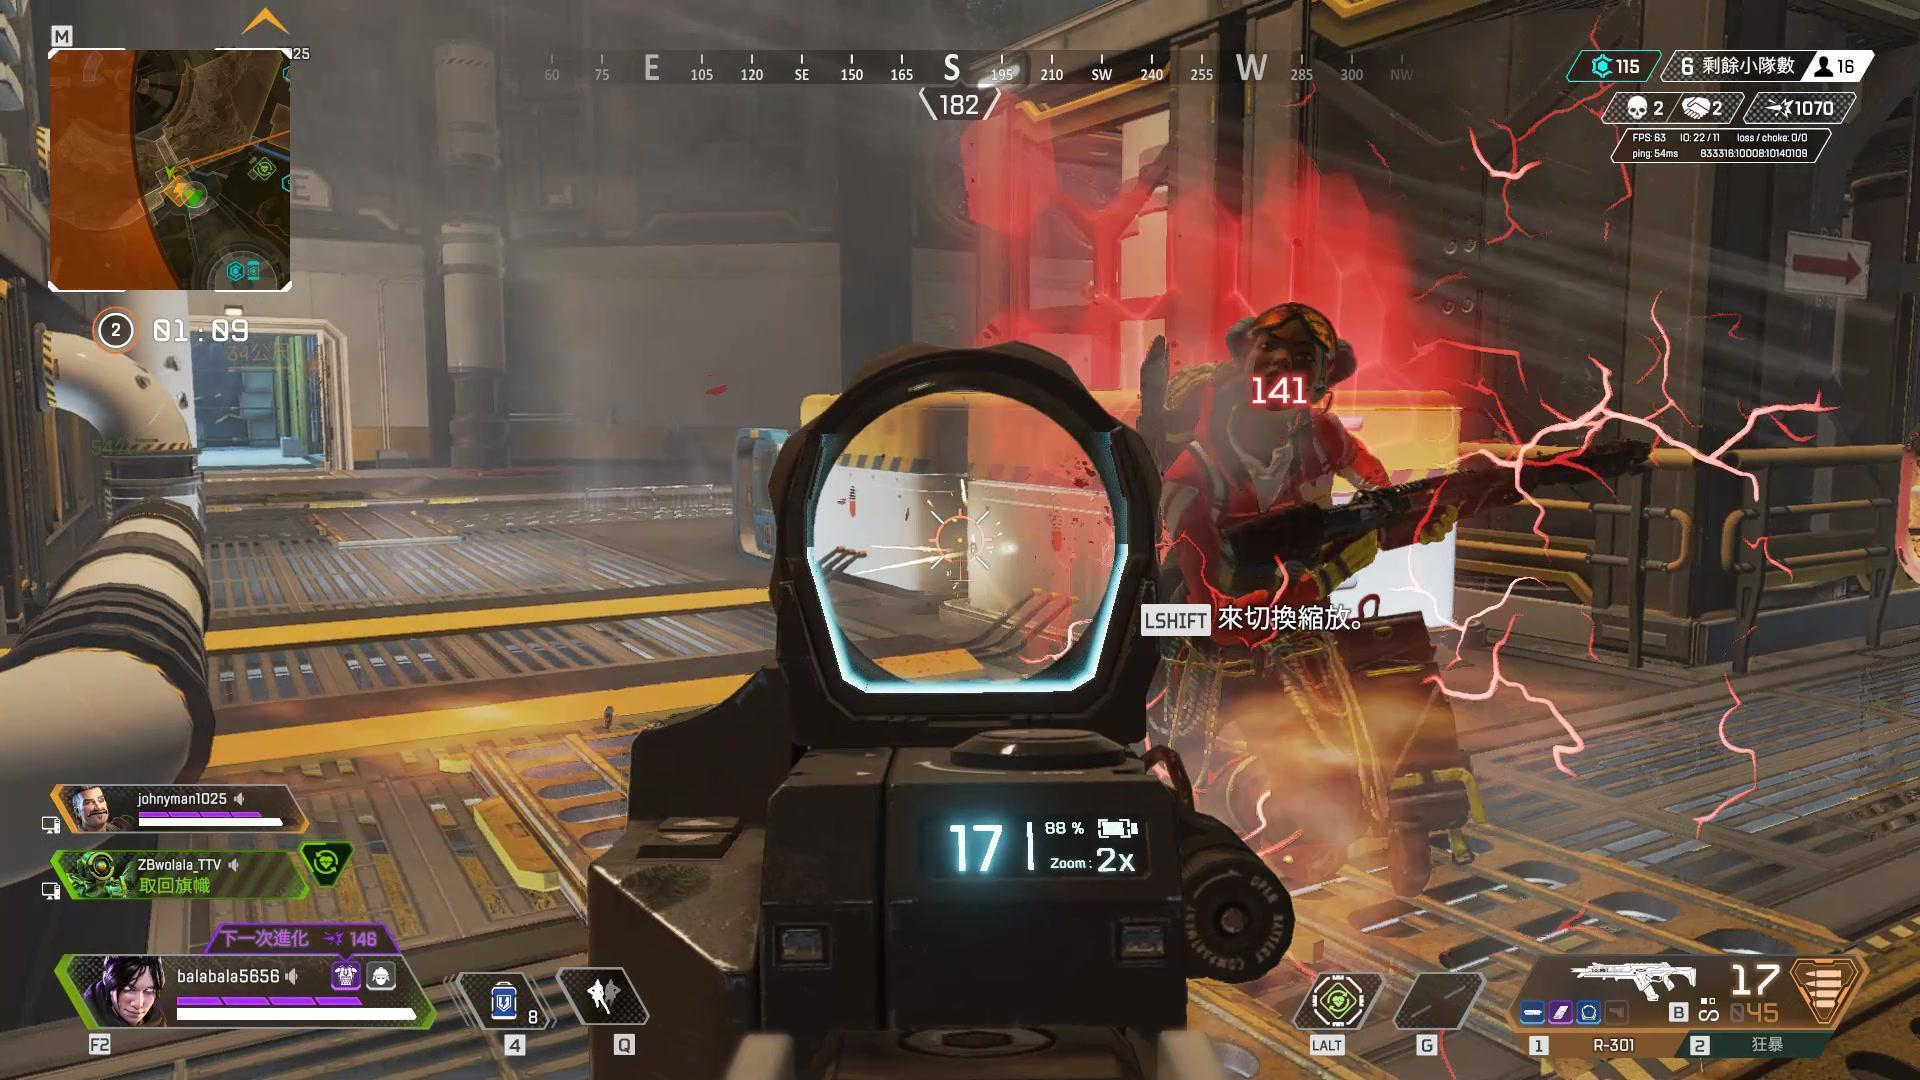avatar: (1151, 299, 1397, 652)
